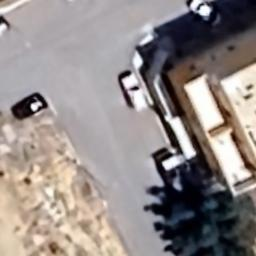pickup: (12, 91, 49, 121)
sedan: (188, 0, 224, 28)
van: (122, 72, 149, 112)
